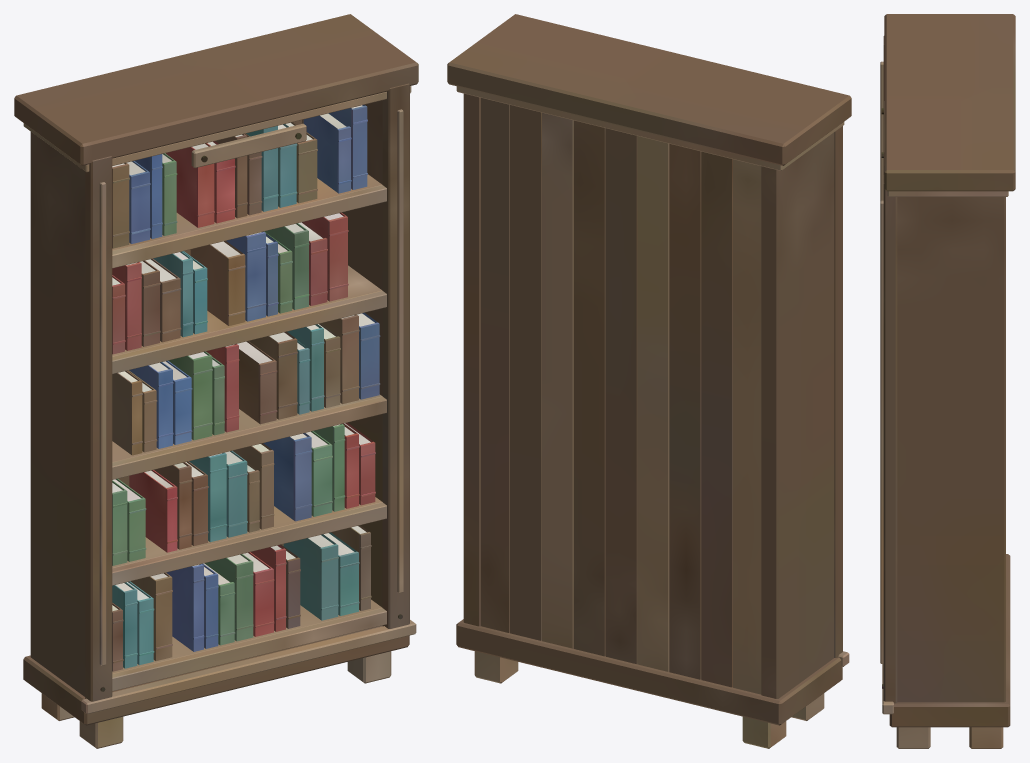
The model's file is Q11_tall_library_bookshelf_v1.glb.
The picture shows the model from 3 angles, left to right: view 1: azimuth 30°, elevation 25°; view 2: azimuth 150°, elevation 25°; view 3: azimuth 270°, elevation 25°; orthographic projection. The views are drawn at different scales.
Visible parts, largest first — view 1: Square cabinet foot; view 2: Square cabinet foot; view 3: Square cabinet foot.
Part boxes in pixels (bbox=[...]): Square cabinet foot: bbox=[14, 14, 418, 748]; Square cabinet foot: bbox=[447, 14, 851, 748]; Square cabinet foot: bbox=[880, 14, 1015, 748].
Bounding box in the file's own units: 1.44 × 2.5 × 0.5205.
Materials: 10 (10 with a texture image).
